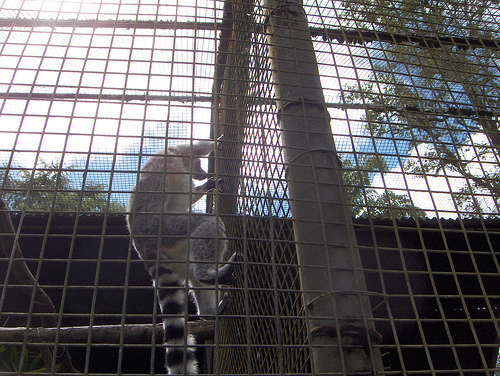cat: (122, 134, 248, 375)
